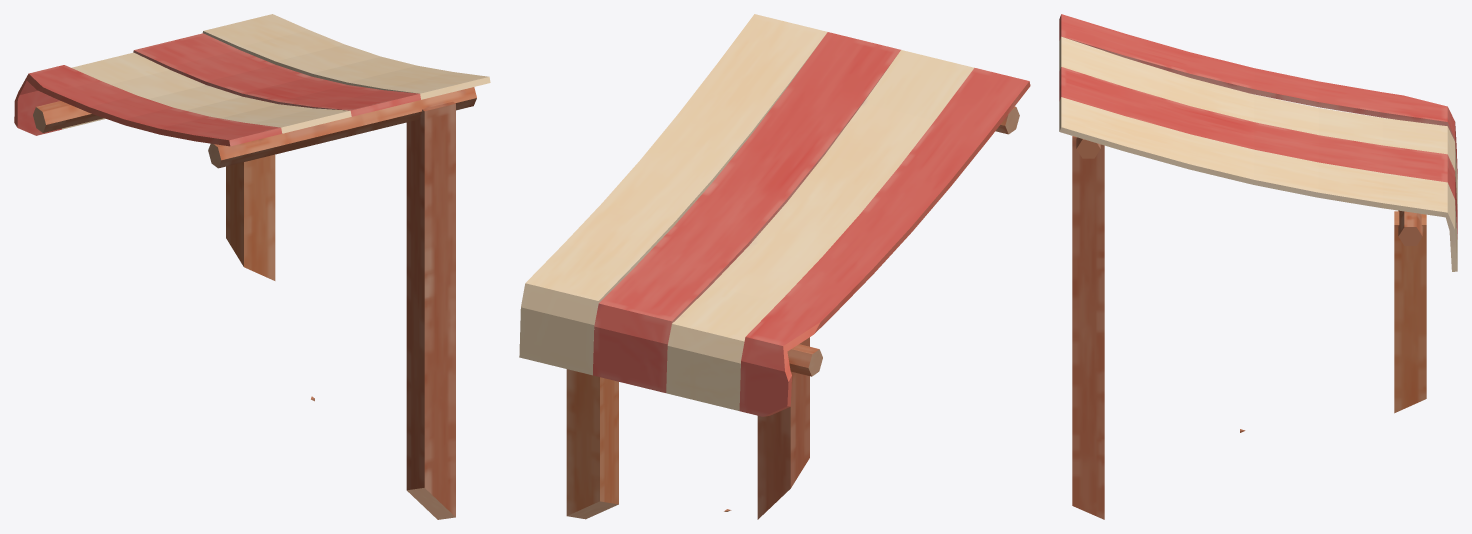
The model's file is stall_s02.fbx.
The picture shows the model from 3 angles, left to right: view 1: azimuth 30°, elevation 25°; view 2: azimuth 150°, elevation 25°; view 3: azimuth 270°, elevation 25°; orthographic projection. The views are drawn at different scales.
Parts seen in each view (by area): view 1: stall_s02; view 2: stall_s02; view 3: stall_s02.
Part boxes in pixels (x1,y1,x2,y2): stall_s02: [14, 14, 490, 519]; stall_s02: [519, 14, 1030, 519]; stall_s02: [1059, 14, 1457, 519].
Bounding box in the file's own units: 3.33 × 5.55 × 4.95.
